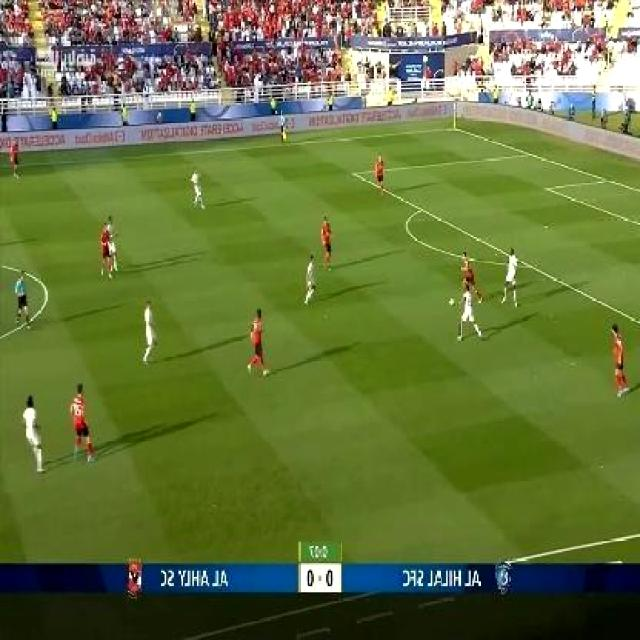bigarea_top_inner: (354, 168, 361, 180)
bigarea_top_outter: (526, 149, 532, 157)
corner: (451, 123, 458, 129)
smallarea_top_inner: (546, 185, 554, 192)
smallarea_top_outter: (605, 175, 612, 183)
top_arc_area_intersection: (417, 203, 426, 214)
